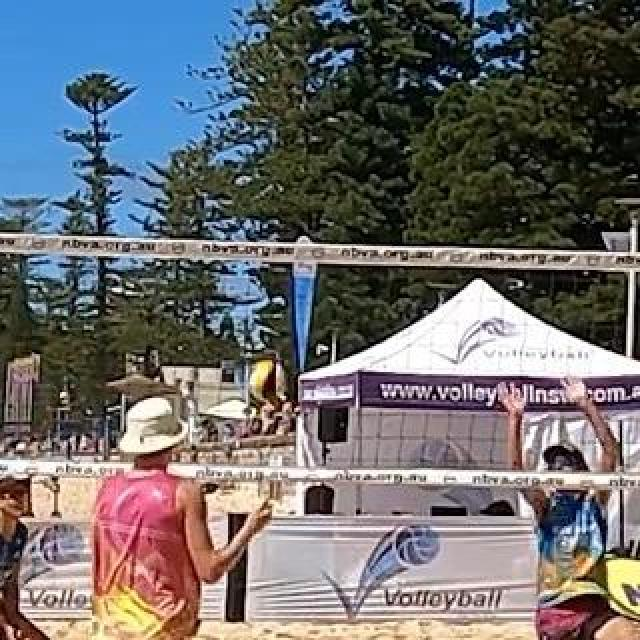volleyball: (247, 360, 285, 398)
